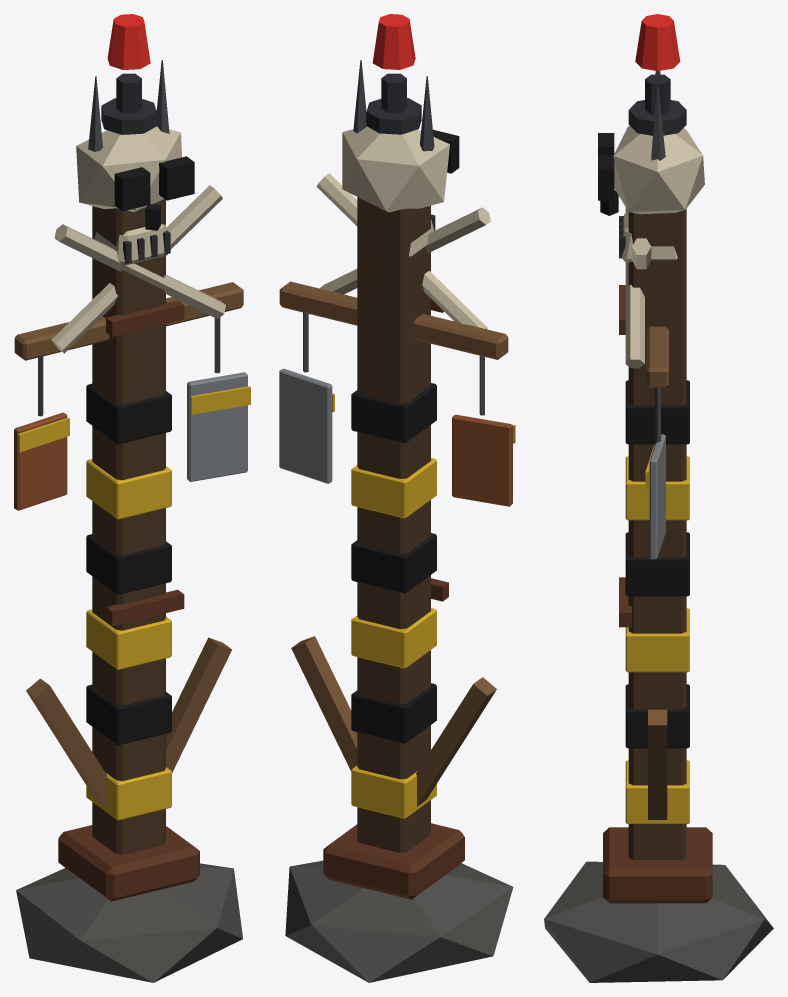
The model's file is lair_warning_post.fbx.
3 views of the same model, side by side, from view 1: azimuth 30°, elevation 25°; view 2: azimuth 150°, elevation 25°; view 3: azimuth 270°, elevation 25° (orthographic).
Visible parts, largest first — view 1: lair_warning_post, Lamp; view 2: lair_warning_post, Lamp; view 3: lair_warning_post, Lamp.
Boxes of the visible parts, x1,y1,x2,y2 form: lair_warning_post: (14, 60, 250, 982); Lamp: (107, 14, 150, 69); lair_warning_post: (279, 60, 515, 982); Lamp: (372, 14, 415, 69); lair_warning_post: (544, 71, 773, 982); Lamp: (635, 14, 680, 71).
Bounding box in the file's own units: 0.8401 × 3.19 × 0.7132.
